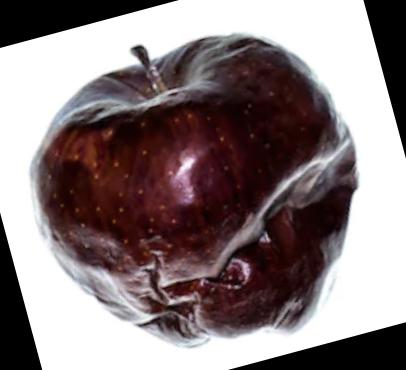Apple: (40, 33, 349, 339)
